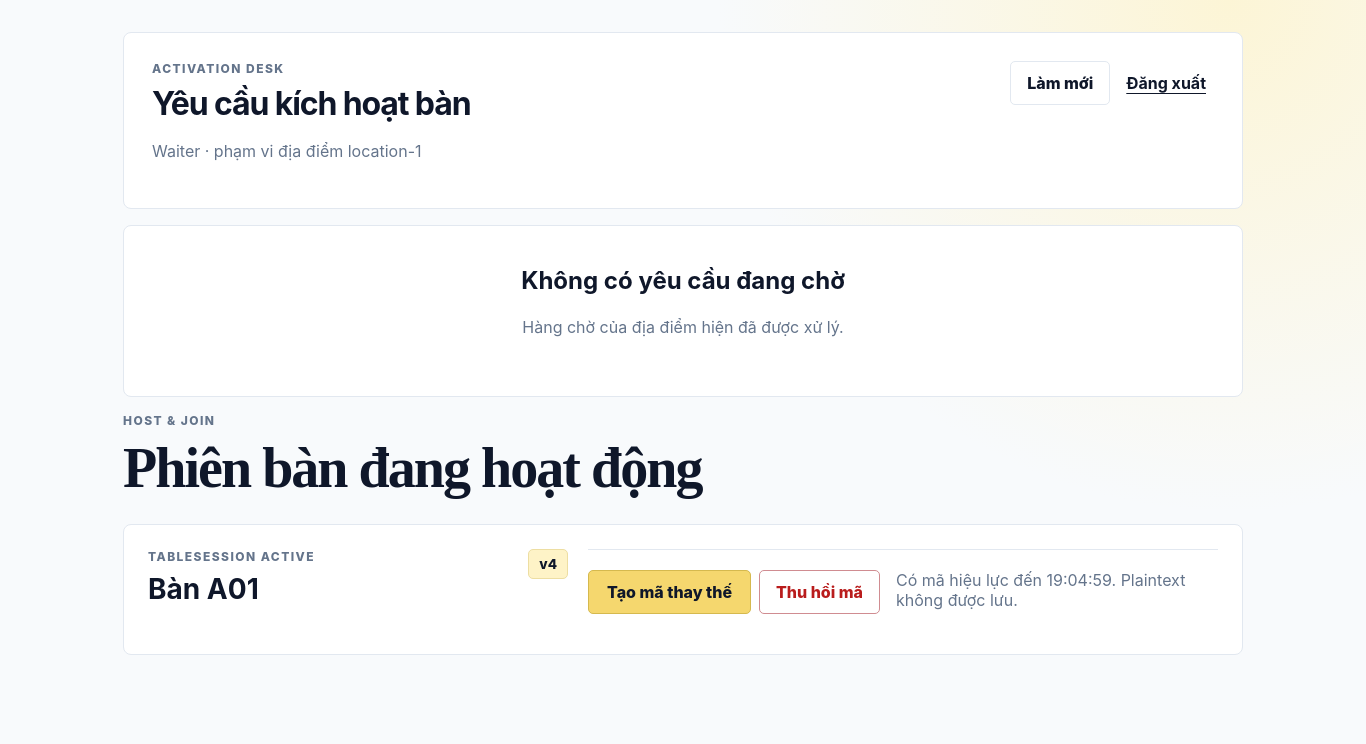
staff Join Code controls › lists scoped active sessions and rotates a code only after confirmation
Check: the heading "Phiên bàn đang hoạt động" is shown, box [123, 436, 702, 500]
Click the button "Tạo mã thay thế" at [670, 592], box [588, 570, 751, 614]
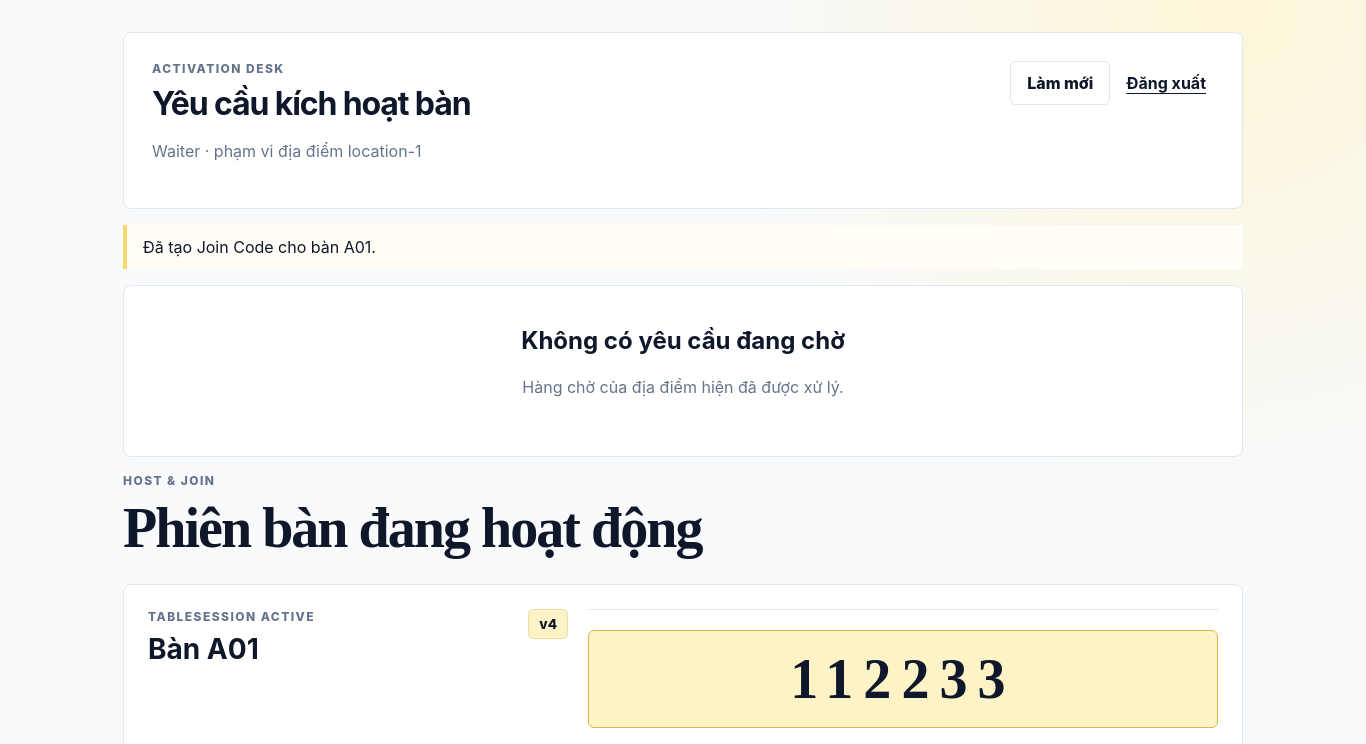
Check: the text "112233" is shown, box [588, 630, 1218, 728]
